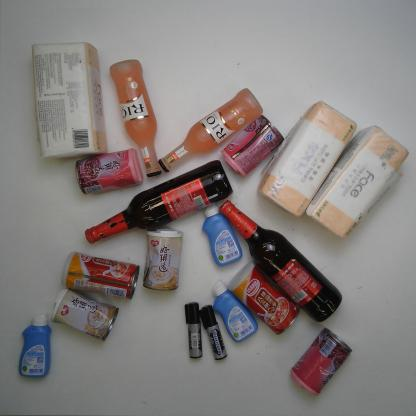Alcohol: (219, 199, 343, 323), (83, 159, 234, 245), (158, 86, 264, 173), (108, 58, 163, 178)
Canned Food: (226, 262, 300, 336), (290, 327, 352, 397), (220, 113, 285, 178), (60, 250, 140, 300), (50, 288, 119, 342), (75, 147, 144, 196), (142, 226, 184, 292)
Personal Hygiene: (212, 278, 259, 344), (202, 203, 244, 267), (18, 313, 52, 378)
Stationery: (199, 304, 228, 361), (184, 302, 203, 360)
Tissue: (304, 124, 411, 242), (256, 99, 357, 218), (29, 40, 109, 158)
